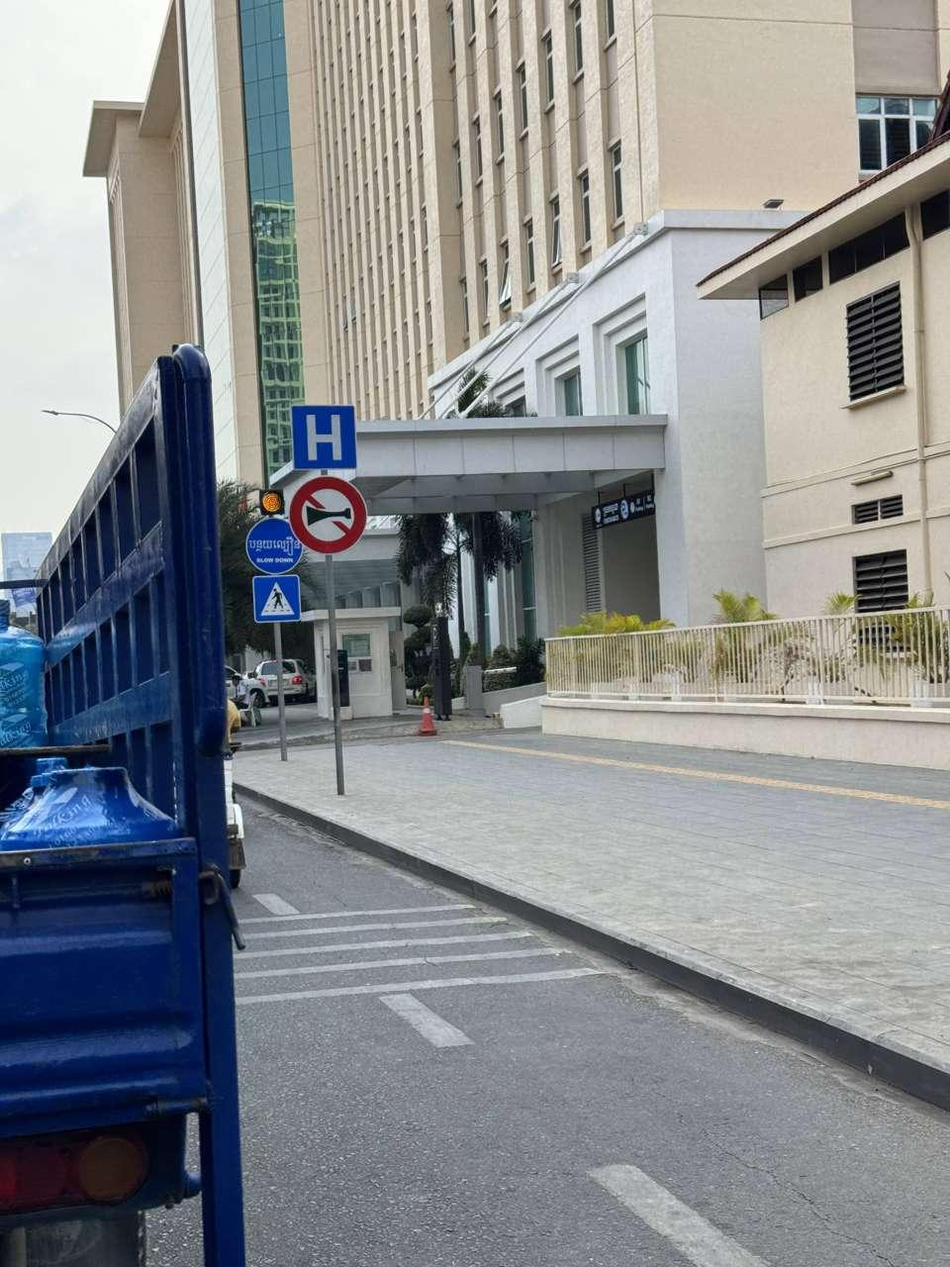hospital: (290, 403, 358, 469)
no_honking: (289, 476, 370, 556)
pedestrian_crossing: (254, 574, 303, 625)
slow_down: (245, 517, 304, 573)
